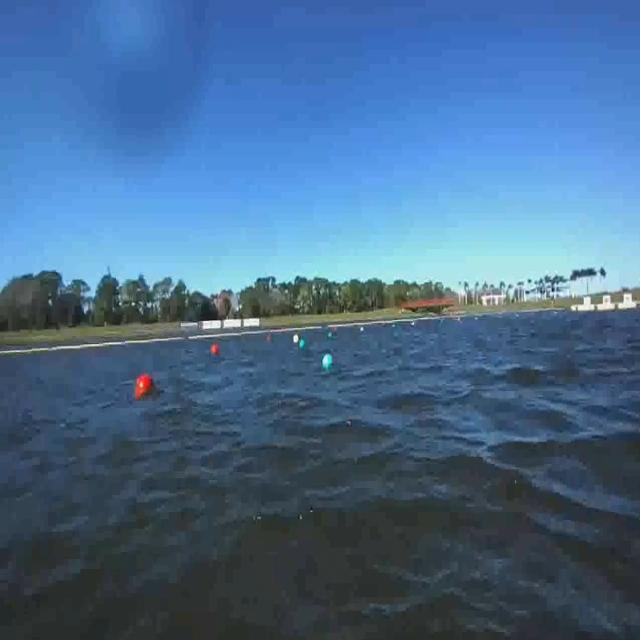green-buoy: (322, 350, 336, 374), (300, 335, 309, 352)
red-buoy: (137, 375, 155, 397), (211, 344, 220, 355)
